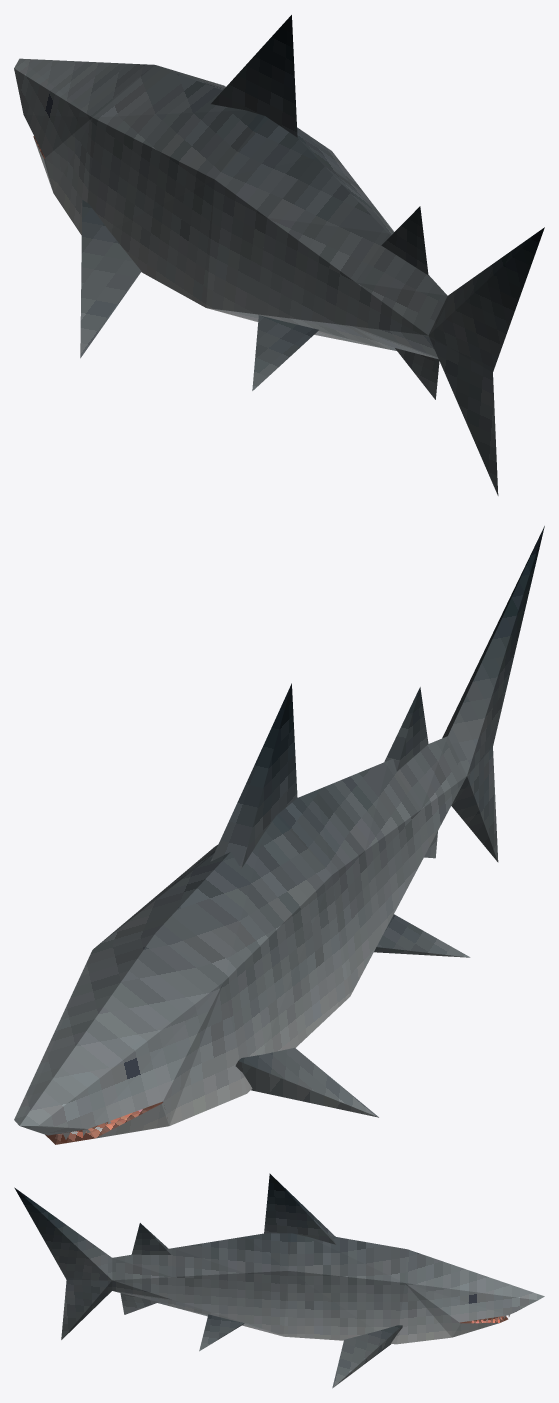
File: Shark_Tiger_Shark_Tiger.glb
The picture shows the model from 3 angles, top to bottom: view 1: azimuth 30°, elevation 25°; view 2: azimuth 150°, elevation 25°; view 3: azimuth 270°, elevation 25°; orthographic projection. The views are drawn at different scales.
Visible parts, largest first — view 1: Body, Tail2, Tail1; view 2: Body, Tail2, Tail1, Jaw; view 3: Body, Tail2, Tail1, Jaw.
Part boxes in pixels (x1,y1,x2,y2): Body: [14, 15, 363, 358]; Tail2: [351, 206, 544, 495]; Tail1: [252, 157, 393, 390]; Body: [14, 683, 378, 1139]; Tail2: [384, 526, 544, 862]; Tail1: [316, 760, 470, 957]; Jaw: [45, 1102, 169, 1144]; Body: [245, 1173, 544, 1388]; Tail2: [14, 1187, 171, 1339]; Tail1: [172, 1236, 245, 1351]; Jaw: [452, 1316, 508, 1337].
Size of the model in its own units: 0.8836 by 0.9955 by 2.69.
1 material, 1 textured.
